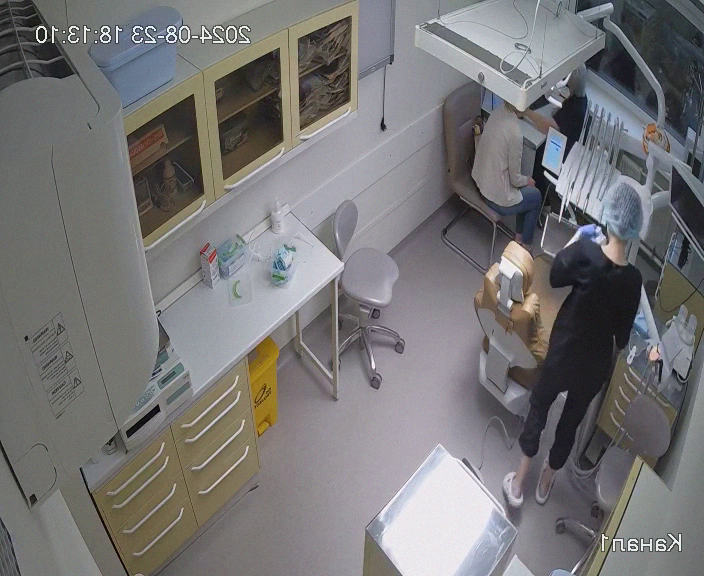Empty: (475, 238, 565, 415)
